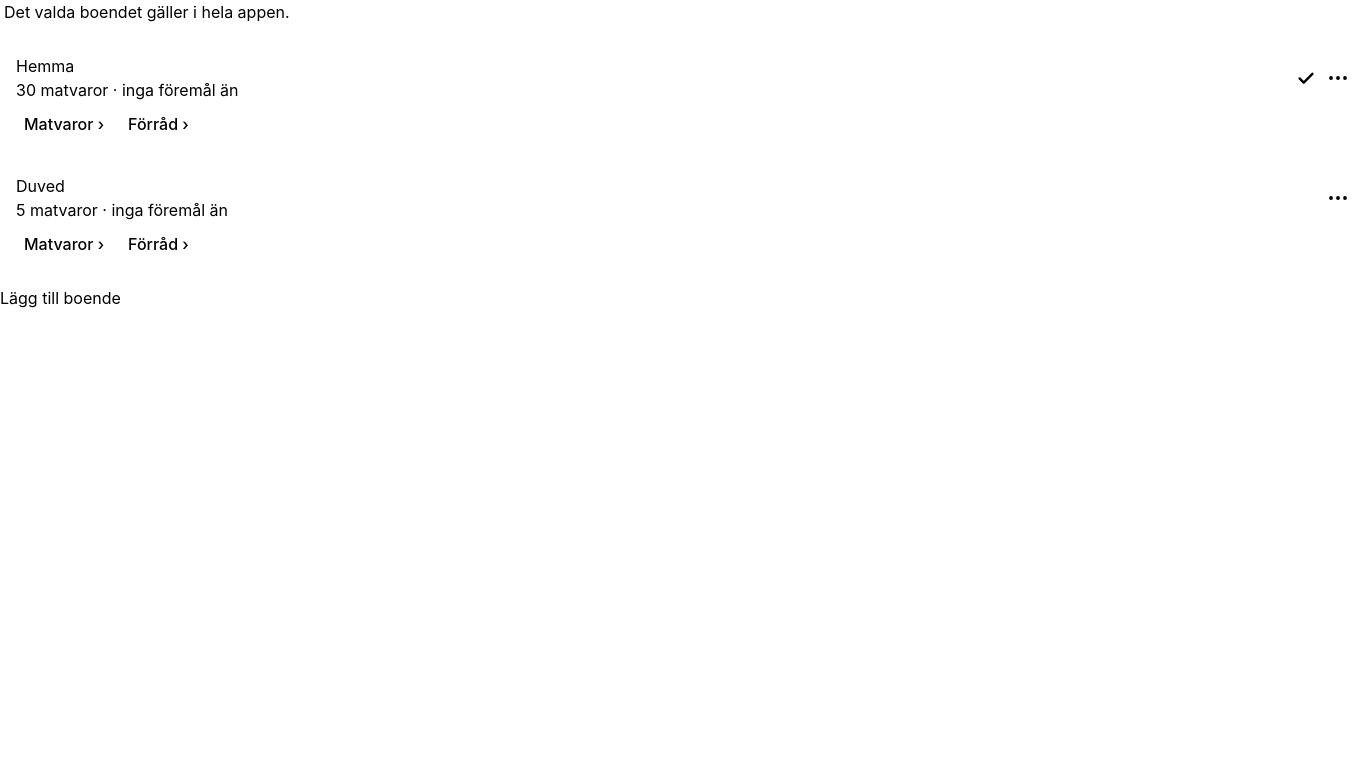
Test: HousingSettings › opens Byt namn from ⋯ in the sheet Boenden, with the name field for that boende
The image size is (1366, 768).
What coordinates should you click on to do the following:
click the button named "Fler val för Duved"
I would click on:
 (1338, 198)
Its box is [1326, 186, 1350, 210].
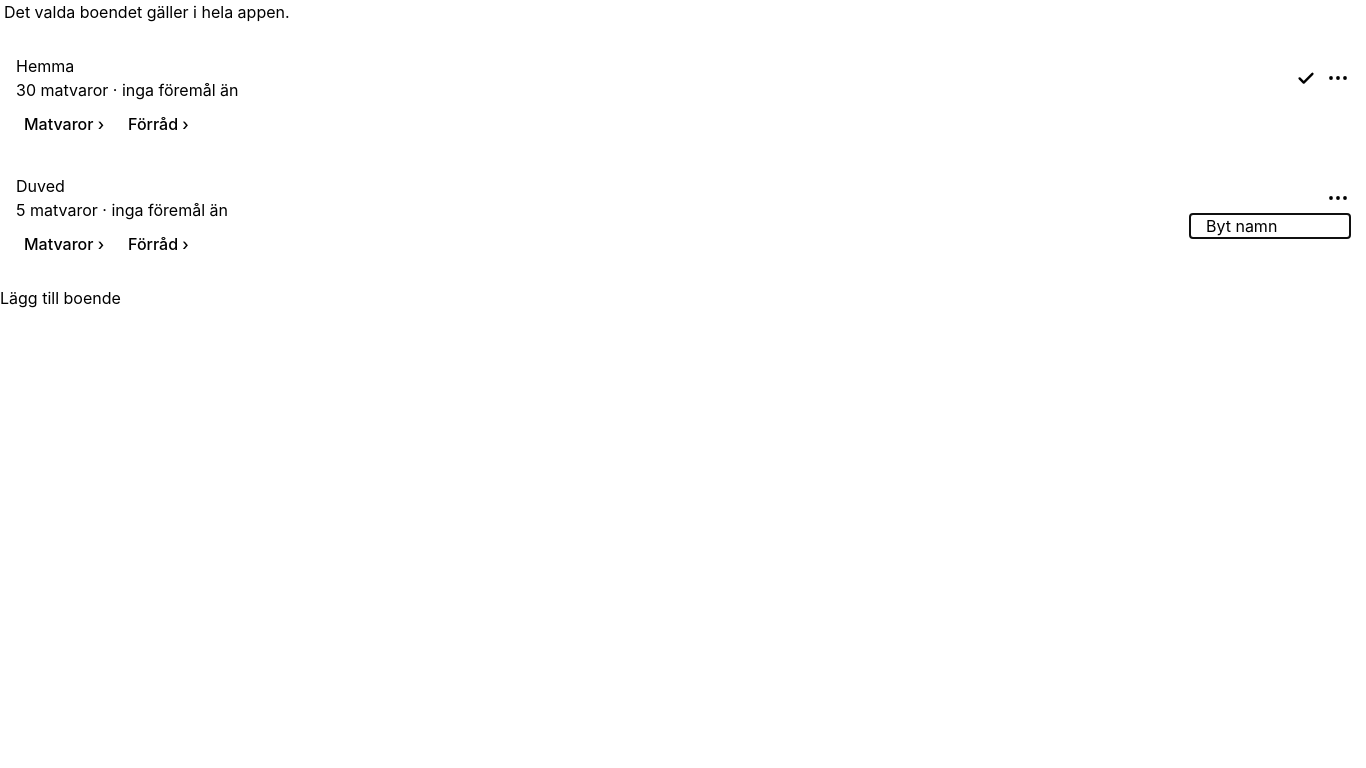
What coordinates should you click on to do the following:
click the menu item "Byt namn"
I would click on:
 (1270, 226)
Its box is [1190, 214, 1350, 238].
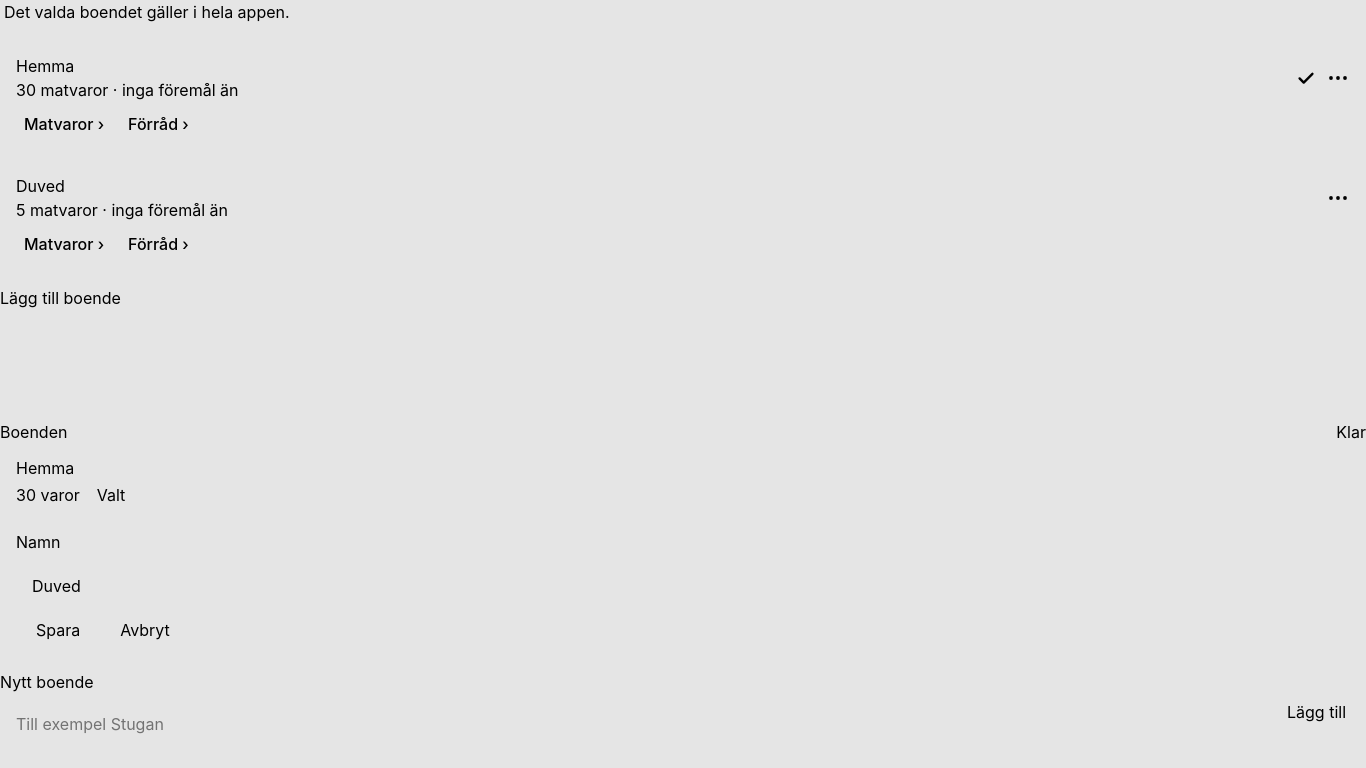
Result: the field labelled "Namn" holds "Duved" at [16, 562, 1350, 610]
